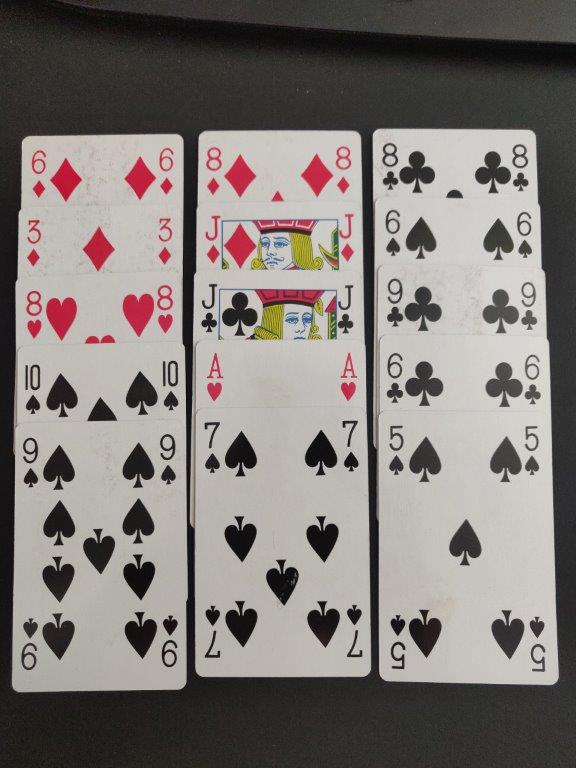10S: (20, 356, 49, 417), (157, 355, 182, 414)
3D: (22, 216, 49, 272), (152, 210, 176, 271)
5S: (385, 420, 410, 482), (520, 422, 544, 480)
6C: (382, 345, 406, 407), (521, 349, 545, 408)
6D: (26, 142, 52, 207), (155, 143, 179, 201)
6S: (380, 206, 407, 259), (514, 207, 537, 260)
7S: (337, 416, 364, 476), (199, 418, 226, 476)
8C: (376, 135, 404, 195), (507, 140, 534, 196)
8D: (330, 141, 357, 201), (201, 140, 226, 198)
8H: (153, 279, 179, 337), (24, 285, 47, 341)
9C: (514, 280, 543, 336), (381, 274, 407, 334)
9S: (155, 430, 182, 491), (19, 433, 43, 491)
AH: (334, 345, 361, 409), (201, 349, 230, 405)
JC: (198, 280, 222, 337)
JD: (335, 207, 359, 265), (202, 210, 224, 268)
